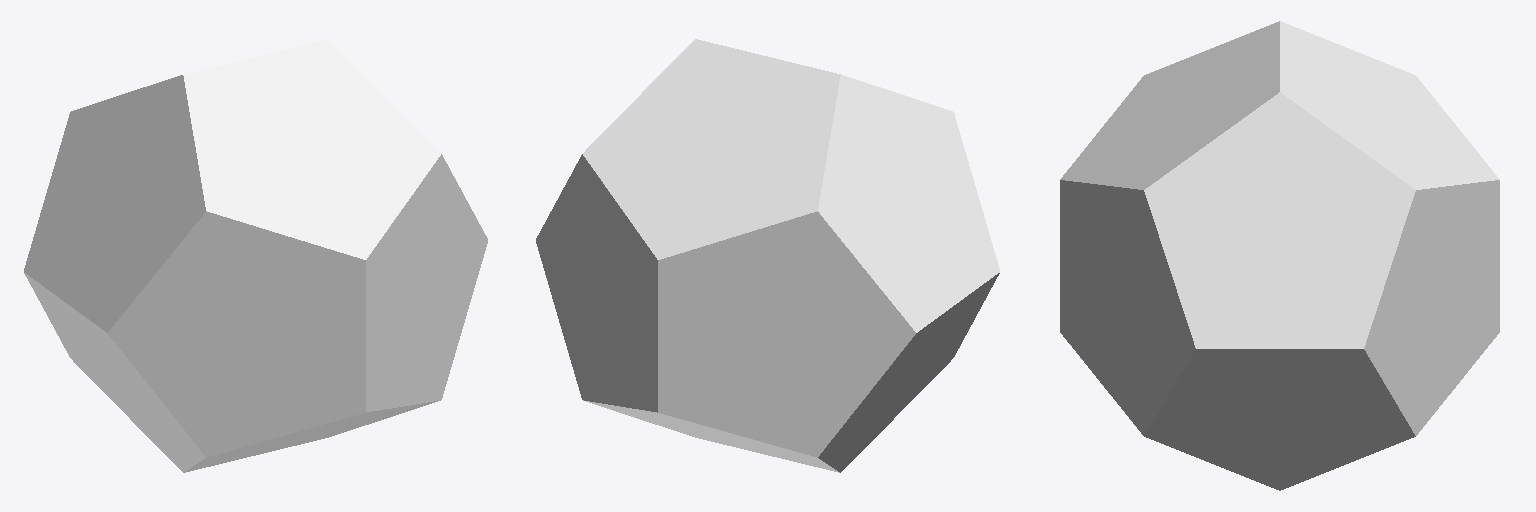
File: dodekahedron.obj
3 views of the same model, side by side, from view 1: azimuth 30°, elevation 25°; view 2: azimuth 150°, elevation 25°; view 3: azimuth 270°, elevation 25° (orthographic).
Parts seen in each view (by area): view 1: Mesh; view 2: Mesh; view 3: Mesh.
Boxes of the visible parts, box(x1,y1,x2,y2) form: Mesh: box(24, 39, 487, 472); Mesh: box(536, 39, 999, 472); Mesh: box(1060, 21, 1499, 490).
Bounding box in the file's own units: 0.9896 × 0.9896 × 0.9896.